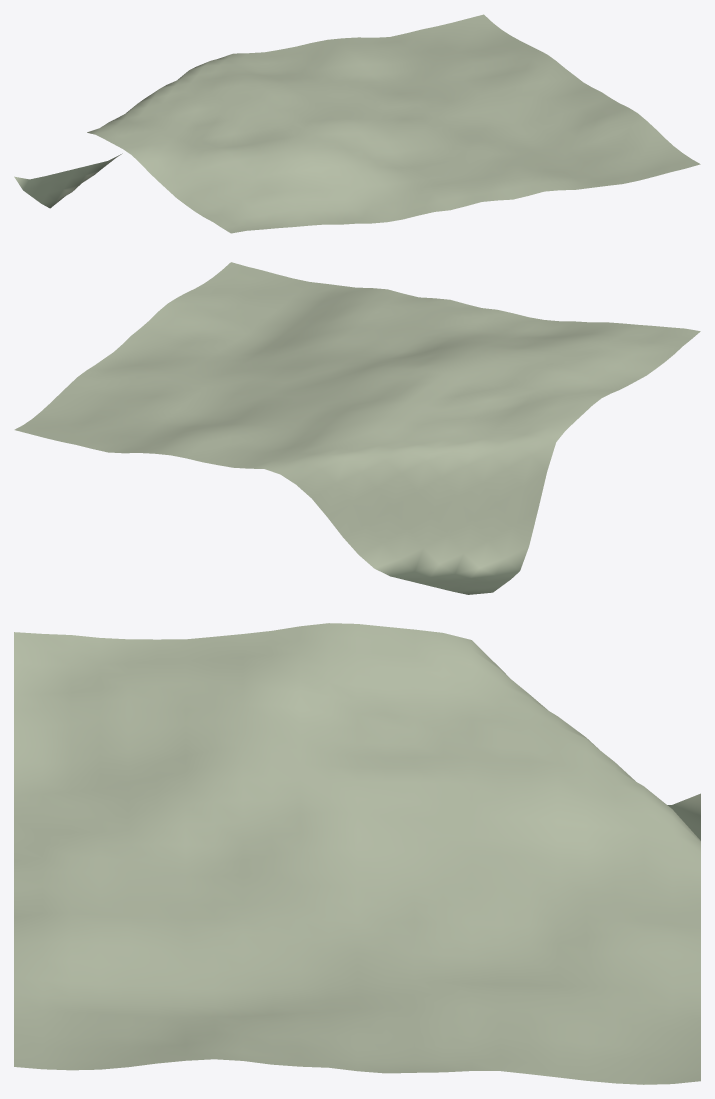
The picture shows the model from 3 angles, top to bottom: view 1: azimuth 30°, elevation 25°; view 2: azimuth 150°, elevation 25°; view 3: azimuth 270°, elevation 25°; orthographic projection. The views are drawn at different scales.
Parts seen in each view (by area): view 1: world-ground/60-144; view 2: world-ground/60-144; view 3: world-ground/60-144.
Boxes of the visible parts, <box> form: world-ground/60-144: <box>14,14,700,233</box>; world-ground/60-144: <box>14,262,700,594</box>; world-ground/60-144: <box>14,623,700,1084</box>.
Size of the model in its own units: 37.5 by 8.75 by 30.
